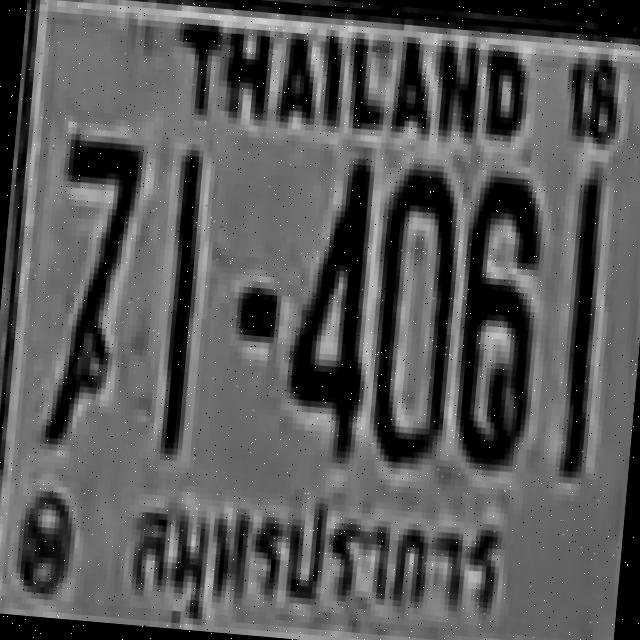0: (362, 161, 460, 459)
4: (280, 151, 380, 455)
6: (448, 168, 546, 460)
7: (42, 133, 140, 431)
SamutPrakan: (115, 466, 515, 640)
